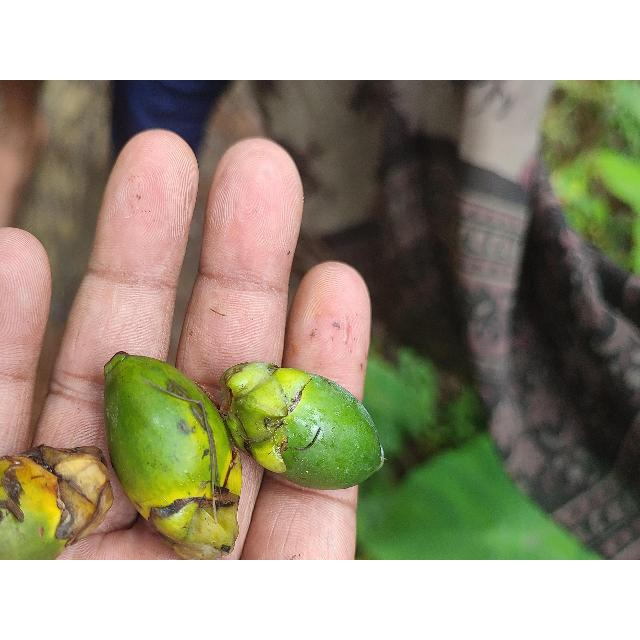damaged: (102, 353, 239, 560), (223, 365, 385, 492), (0, 448, 120, 560)
